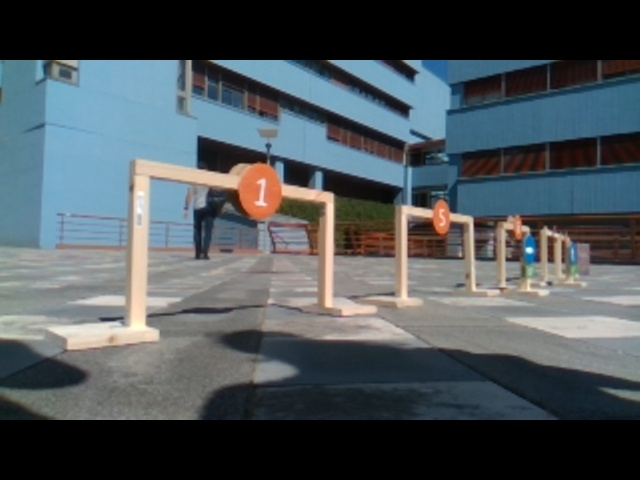checkpoint_foot: (43, 322, 165, 351), (298, 295, 376, 321), (360, 288, 426, 308), (451, 282, 500, 298)
checkpoint_side: (124, 154, 154, 326), (313, 186, 338, 305), (393, 205, 413, 297), (460, 209, 478, 285), (494, 223, 509, 283), (538, 228, 550, 277)
checkpoint_signal: (129, 155, 340, 207), (393, 200, 478, 224)
five: (432, 198, 453, 236)
one: (235, 164, 286, 217)
